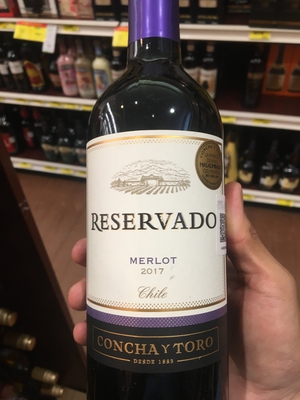reservado merlot: (73, 25, 235, 388)
